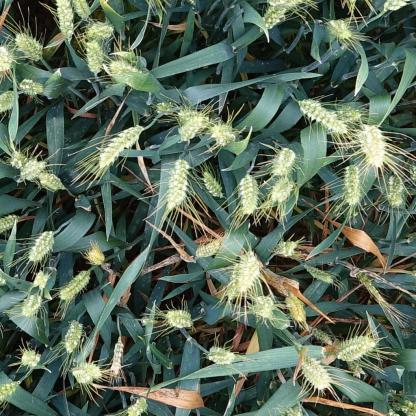whd: (99, 124, 146, 169), (297, 98, 347, 134), (166, 160, 190, 210), (356, 272, 389, 307), (59, 268, 92, 300), (301, 356, 330, 390), (237, 252, 261, 293), (336, 336, 376, 360), (358, 130, 383, 167), (14, 32, 44, 61), (342, 164, 362, 204), (29, 230, 54, 261), (259, 6, 288, 32), (224, 262, 242, 300), (240, 174, 257, 214), (211, 121, 237, 147), (56, 0, 74, 37), (202, 171, 225, 199), (178, 110, 210, 130), (18, 160, 46, 182), (274, 147, 295, 176), (72, 362, 101, 383), (178, 116, 202, 141), (270, 176, 294, 201), (303, 264, 333, 284), (65, 320, 83, 353), (284, 296, 306, 321), (88, 20, 114, 41), (85, 41, 102, 73), (208, 346, 236, 365), (306, 325, 332, 345), (166, 309, 193, 328), (38, 172, 66, 190), (21, 293, 42, 317), (0, 380, 21, 403), (110, 60, 143, 74), (330, 19, 352, 39), (388, 174, 402, 204), (0, 214, 21, 234), (255, 295, 273, 318), (18, 79, 43, 95), (194, 241, 219, 257), (111, 342, 123, 375), (0, 91, 19, 111), (127, 397, 148, 415), (73, 0, 92, 19), (10, 151, 29, 170), (22, 349, 41, 368), (278, 240, 298, 258), (362, 124, 384, 140), (336, 106, 361, 120), (348, 360, 366, 379), (0, 47, 12, 71), (383, 0, 407, 12), (264, 1, 302, 8), (34, 270, 48, 289), (400, 400, 416, 416), (88, 250, 105, 264), (156, 102, 172, 114), (289, 406, 303, 416), (142, 316, 155, 325), (410, 165, 416, 181), (388, 408, 400, 416)
